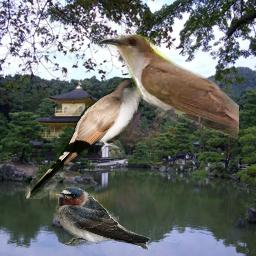Cuckoo: (25, 78, 157, 199), (95, 34, 239, 140)
Swallow: (53, 186, 151, 250)
